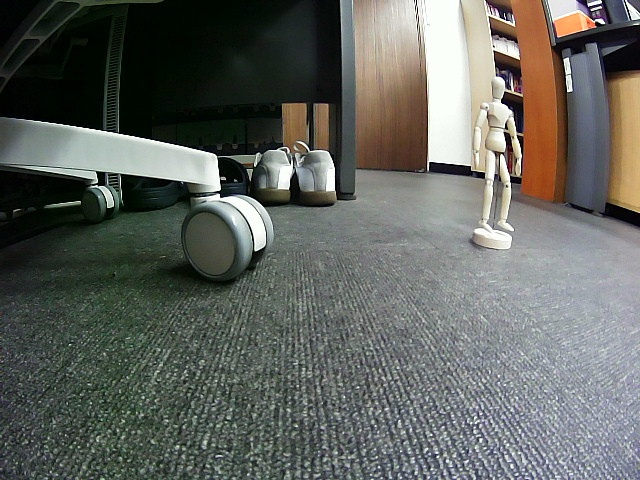person: (474, 77, 522, 235)
